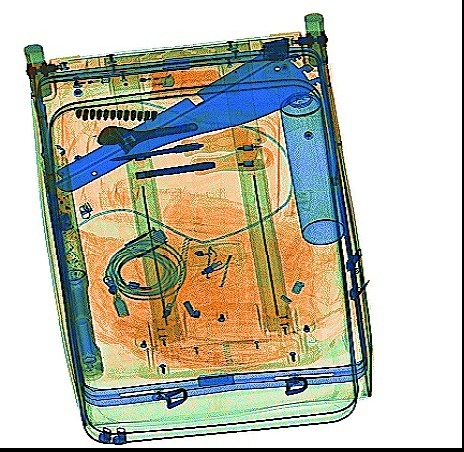lighter: (117, 71, 176, 94)
pressure: (280, 89, 346, 246)
